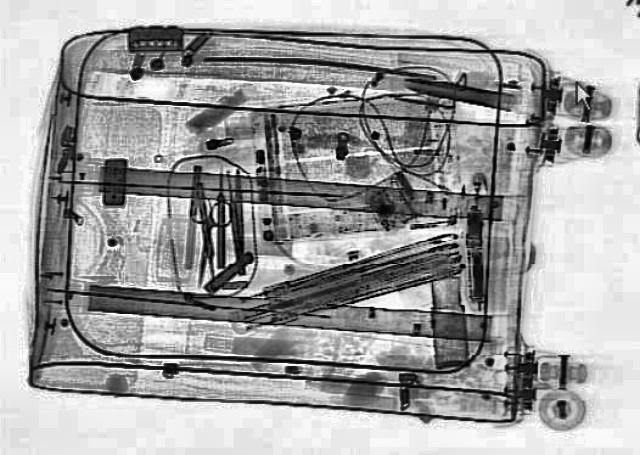Scissors: (175, 195, 235, 288)
